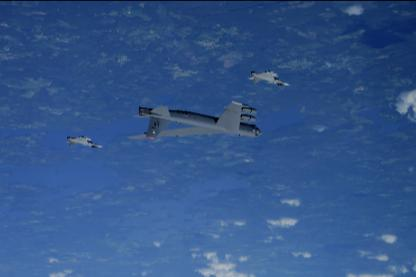B2: (127, 100, 262, 140)
JAS39: (248, 69, 292, 85), (67, 135, 105, 147)
